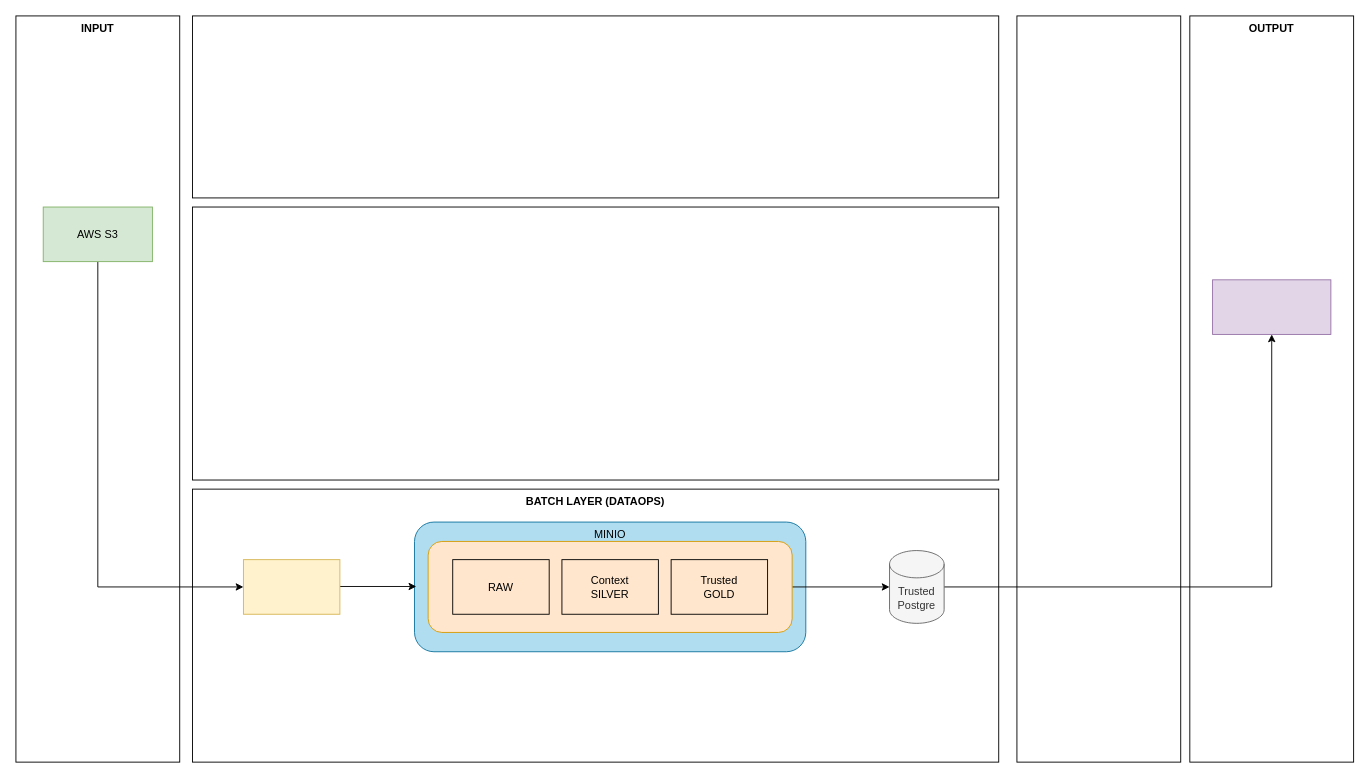
This 1370x778 diagram has some shape labels left out. The centre of each missing label's shape, as x and y in pixels:
"MACHINE LEARNING & AI (MLOPS)" belongs at [595,343].
"METABASE Dashboard" belongs at [1271,306].
"NIFI" belongs at [291,586].
"SERVER LAYER" belongs at [1098,388].
"SPEED LAYER (STREAM)" belongs at [595,106].
